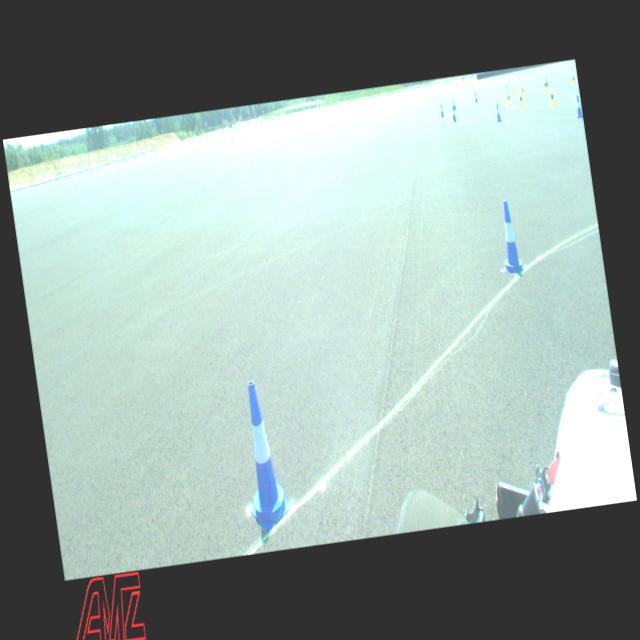blue_cone: (233, 378, 297, 534), (494, 198, 527, 276), (574, 95, 583, 118), (494, 102, 502, 122), (451, 106, 456, 122), (505, 83, 510, 97), (440, 104, 444, 118), (452, 97, 456, 110), (474, 90, 478, 102), (545, 76, 549, 86)
yellow_cone: (549, 88, 556, 106), (506, 89, 512, 106), (518, 91, 524, 108), (520, 84, 526, 96), (543, 79, 547, 92), (572, 73, 576, 85)
